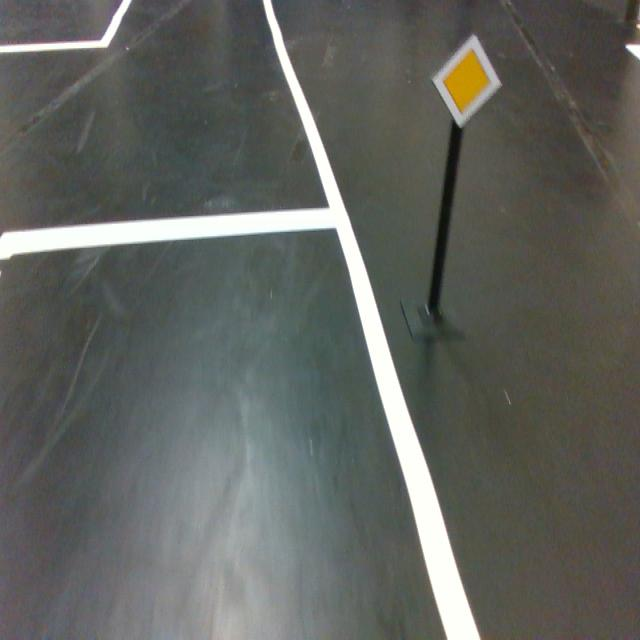priority-sign: (430, 33, 502, 130)
